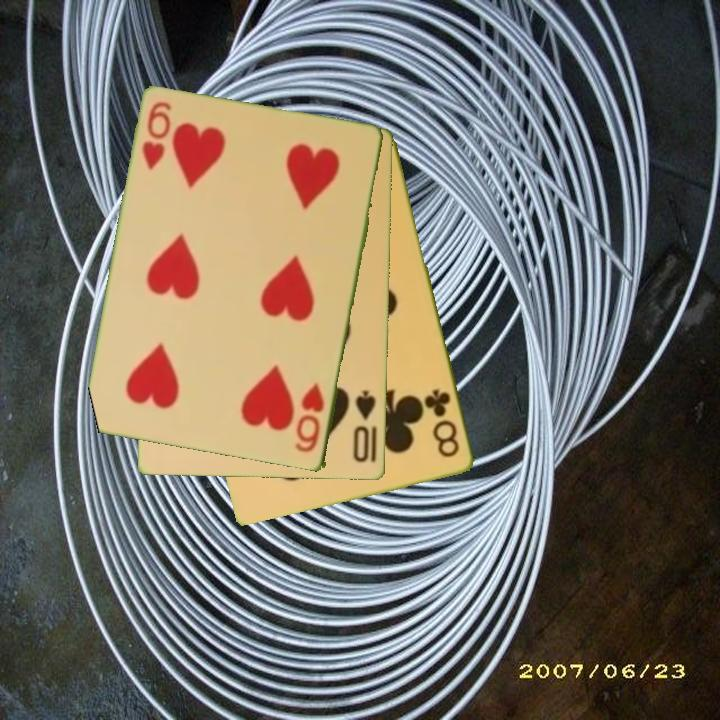10s: (350, 387, 379, 465)
6h: (292, 380, 328, 456), (139, 98, 175, 174)
8c: (422, 385, 463, 461)
